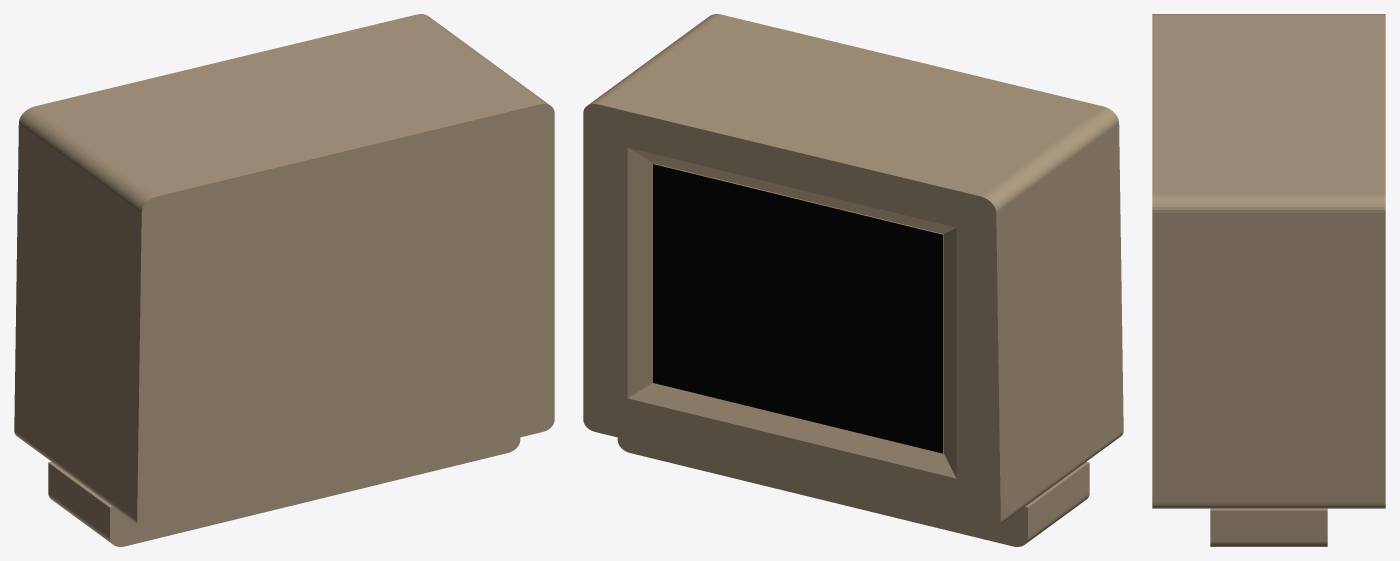
The model's file is IBMonitor 1.fbx.
The picture shows the model from 3 angles, left to right: view 1: azimuth 30°, elevation 25°; view 2: azimuth 150°, elevation 25°; view 3: azimuth 270°, elevation 25°; orthographic projection. The views are drawn at different scales.
Parts seen in each view (by area): view 1: IBMonitor; view 2: IBMonitor; view 3: IBMonitor.
Boxes of the visible parts, box(x1,y1,x2,y2) form: IBMonitor: box(14, 14, 554, 546); IBMonitor: box(583, 14, 1123, 546); IBMonitor: box(1152, 14, 1385, 546).
Size of the model in its own units: 376 by 320 by 192.
